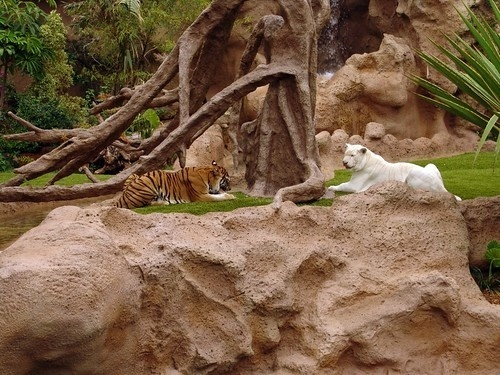tigre: (329, 140, 464, 202), (104, 160, 237, 209)
